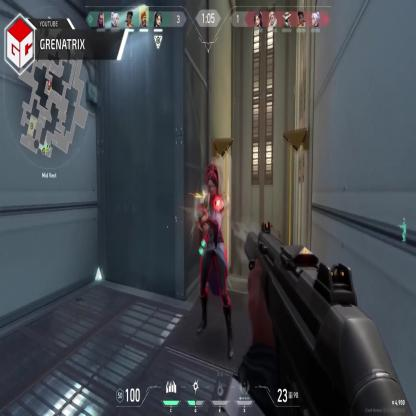enemy: (196, 163, 236, 359)
enemy_head: (207, 172, 218, 198)
